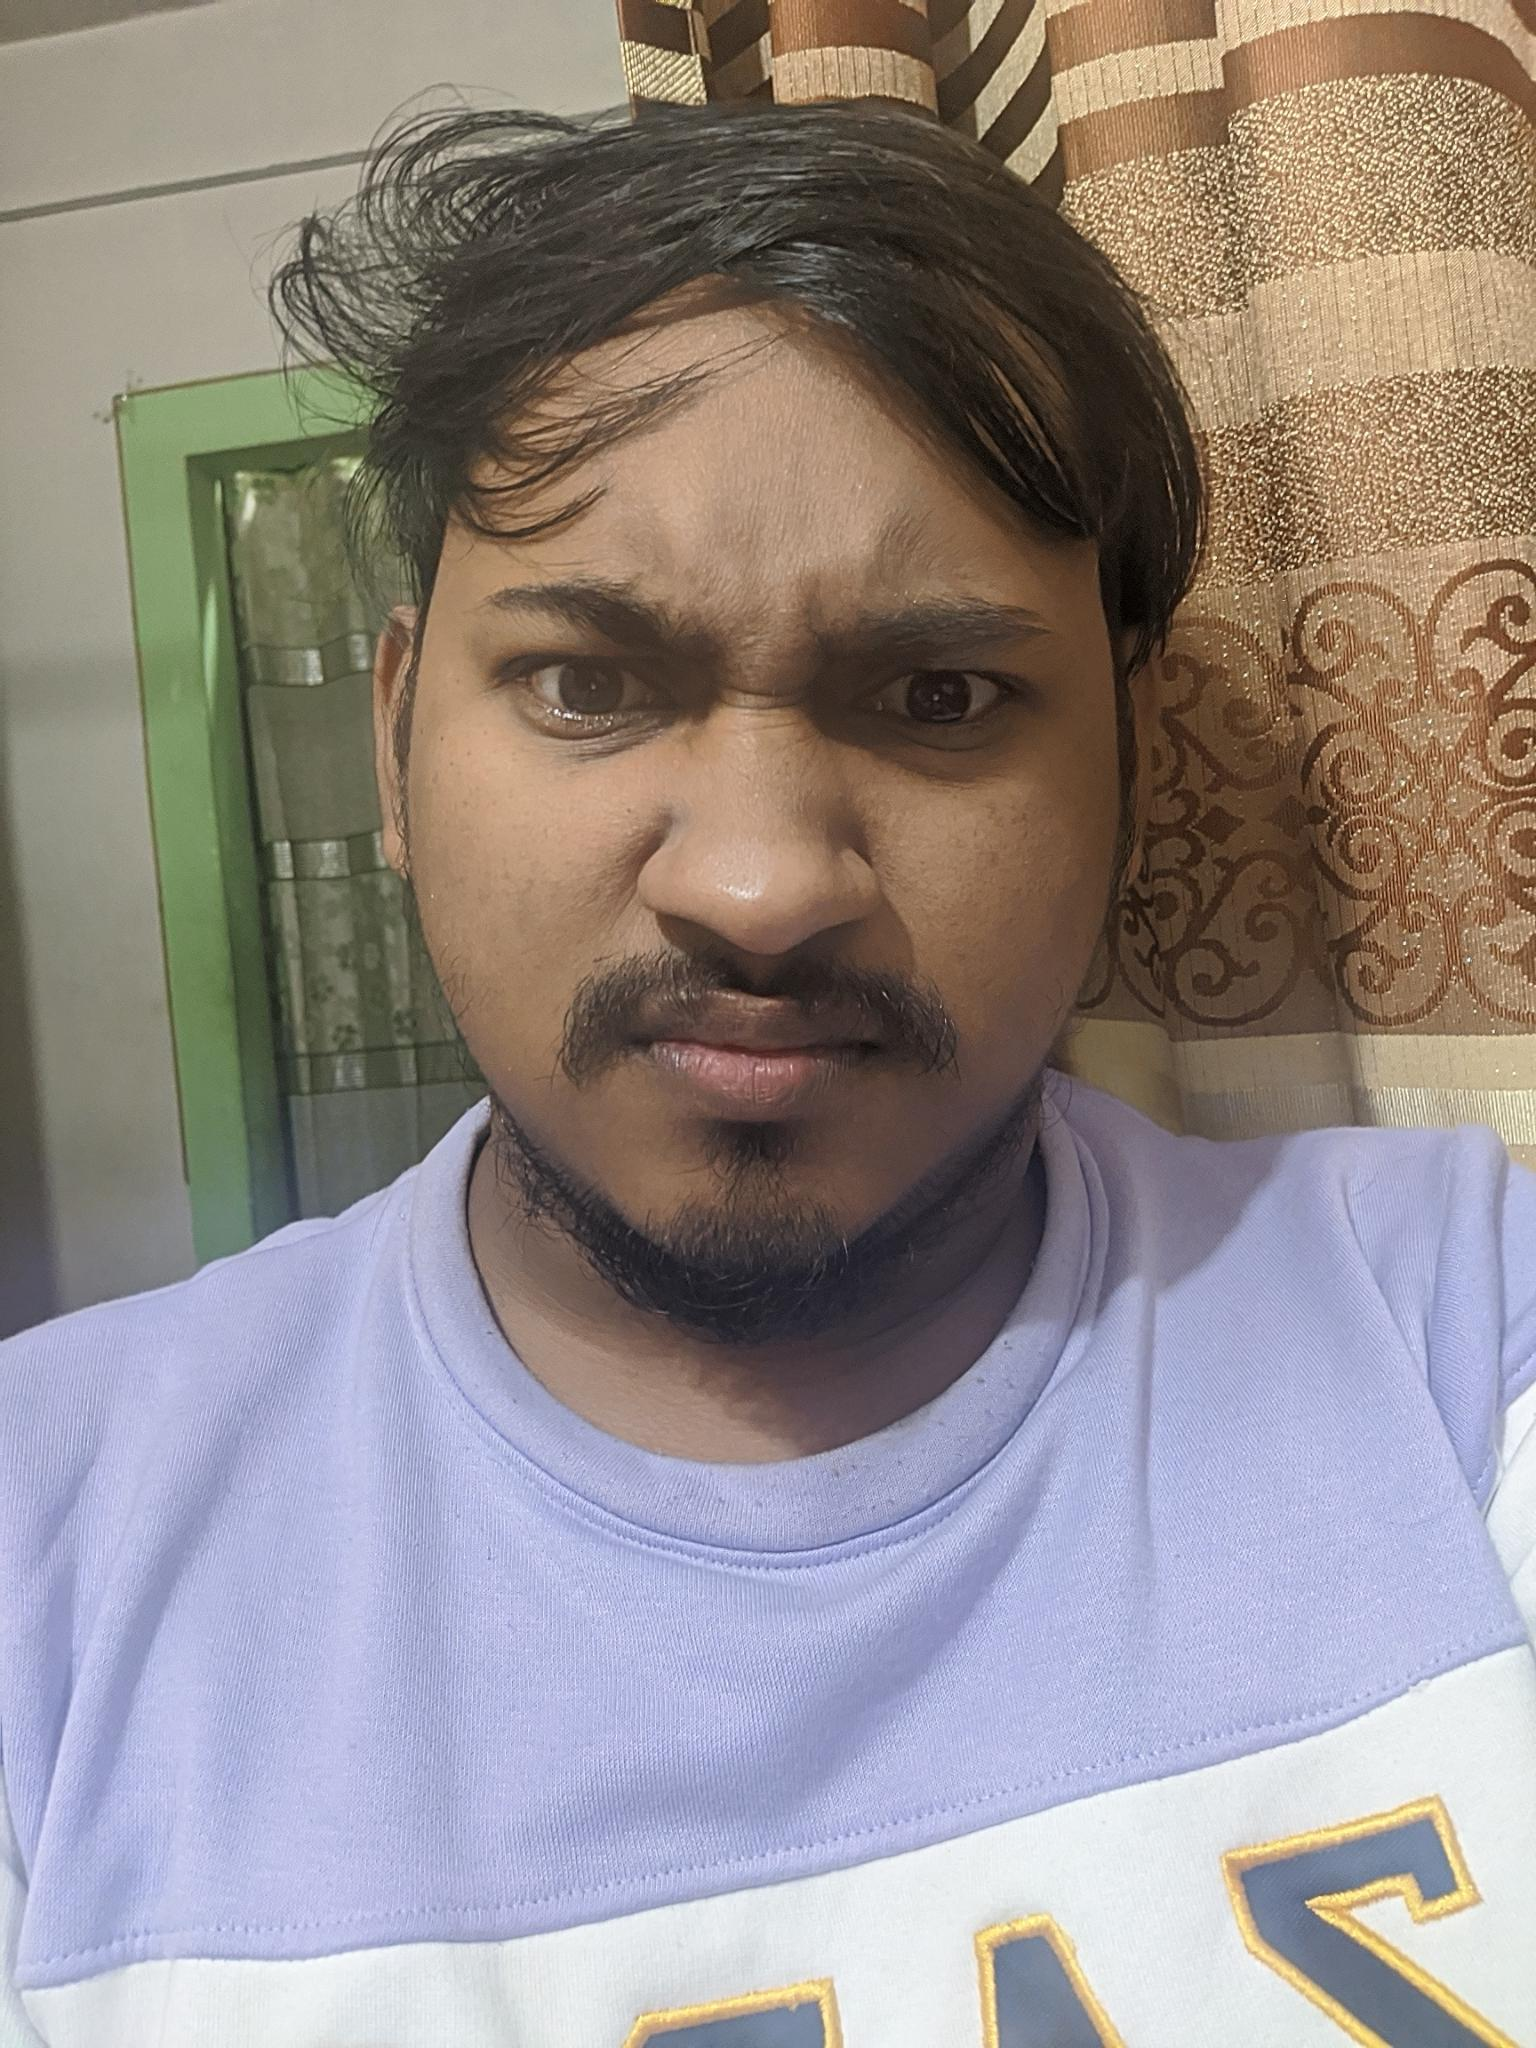Angry: (369, 419, 1141, 1243)
